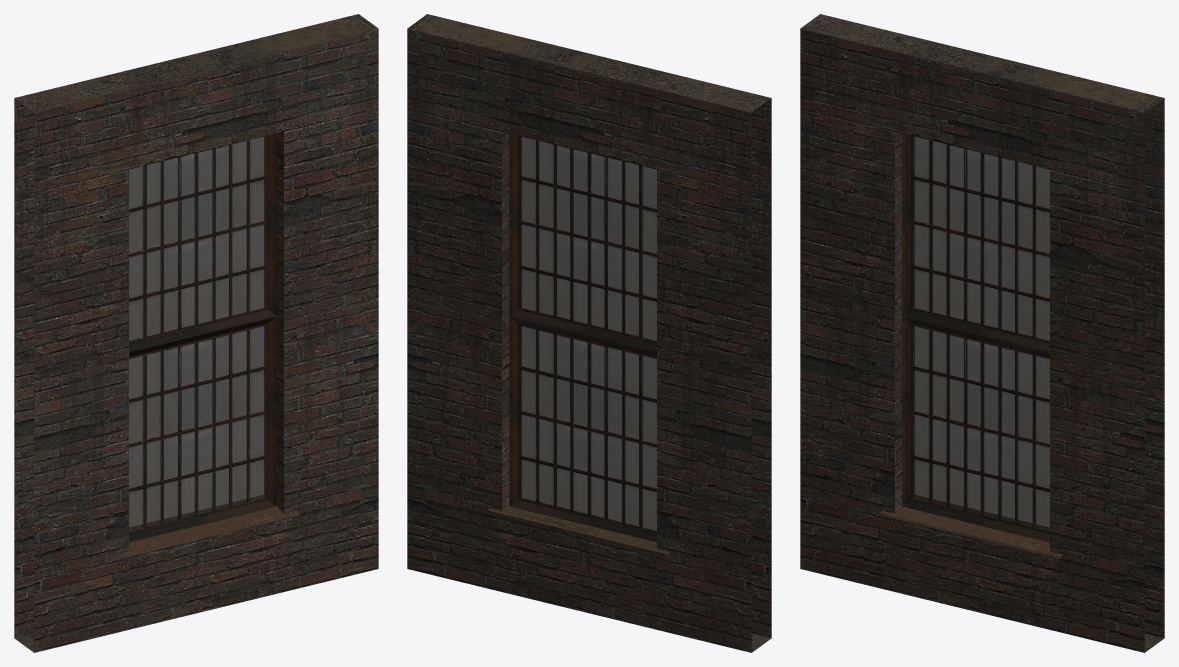
The model's file is wall_hs_1_m_2.obj.
The picture shows the model from 3 angles, left to right: view 1: azimuth 30°, elevation 25°; view 2: azimuth 150°, elevation 25°; view 3: azimuth 330°, elevation 25°; orthographic projection.
Parts seen in each view (by area): view 1: wall_hs_1_m_2; view 2: wall_hs_1_m_2; view 3: wall_hs_1_m_2.
Boxes of the visible parts, left/top/right/bottom form: wall_hs_1_m_2: left=14, top=14, right=378, bottom=652; wall_hs_1_m_2: left=407, top=14, right=771, bottom=652; wall_hs_1_m_2: left=800, top=14, right=1164, bottom=652.
Size of the model in its own units: 4 by 6 by 0.505.
